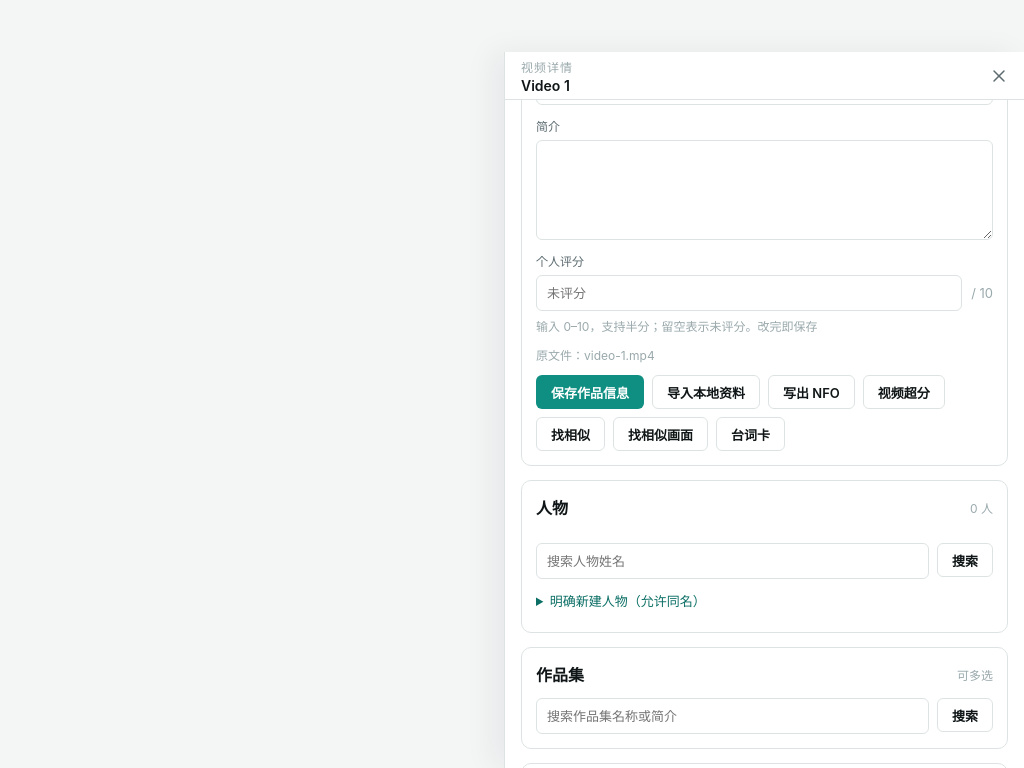
it: PreviewDrawer › 台词卡 › 读字幕期间换了条目就不再打开
(page scrolled)
What coordinates should you click on to do the following:
click the button with test id "drawer-quote-card"
I would click on:
 (750, 434)
Its box is 716,417 -> 785,451.
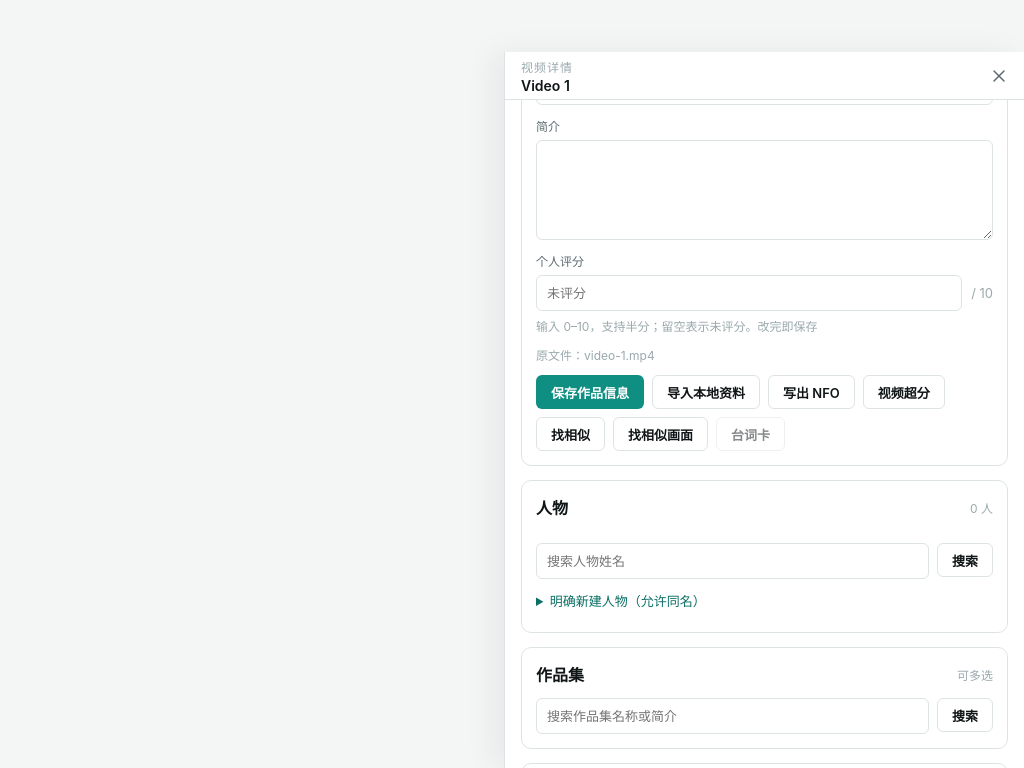
Now the button with test id "drawer-quote-card" is disabled, box 716,417 -> 785,451
